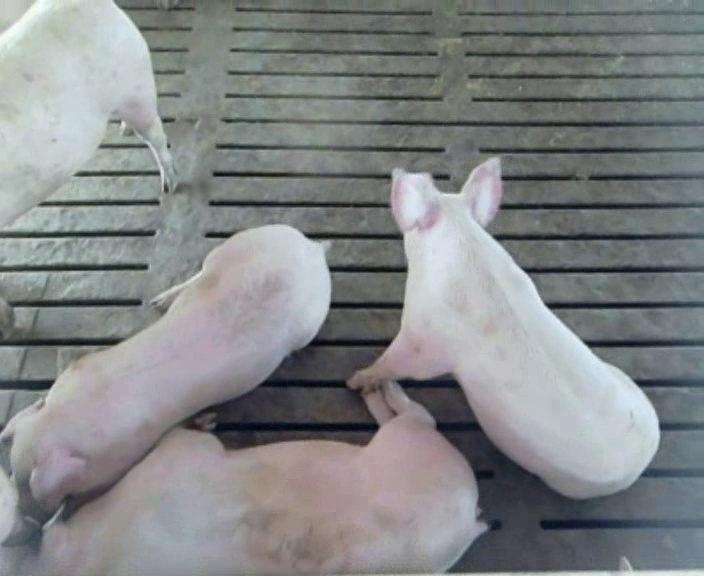pig: (348, 158, 657, 498), (2, 225, 330, 512), (0, 383, 485, 573)
